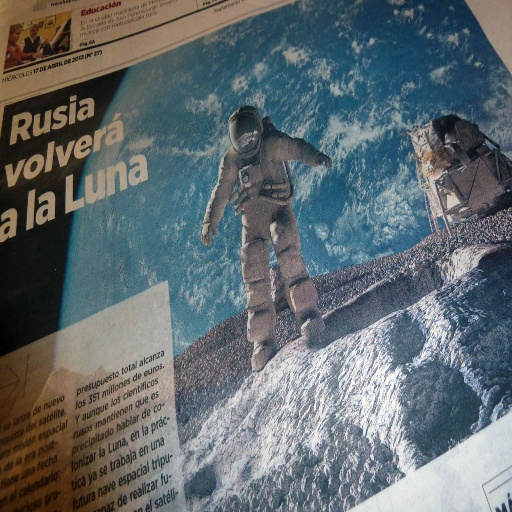hand: (200, 220, 216, 248), (316, 151, 332, 168), (31, 50, 42, 57), (43, 34, 48, 45)
